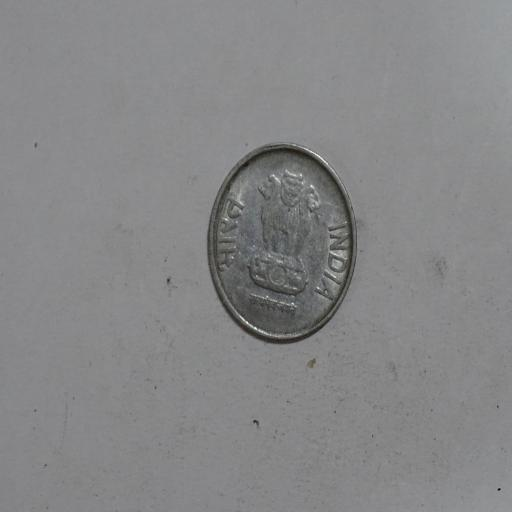rupee2: (204, 142, 355, 341)
